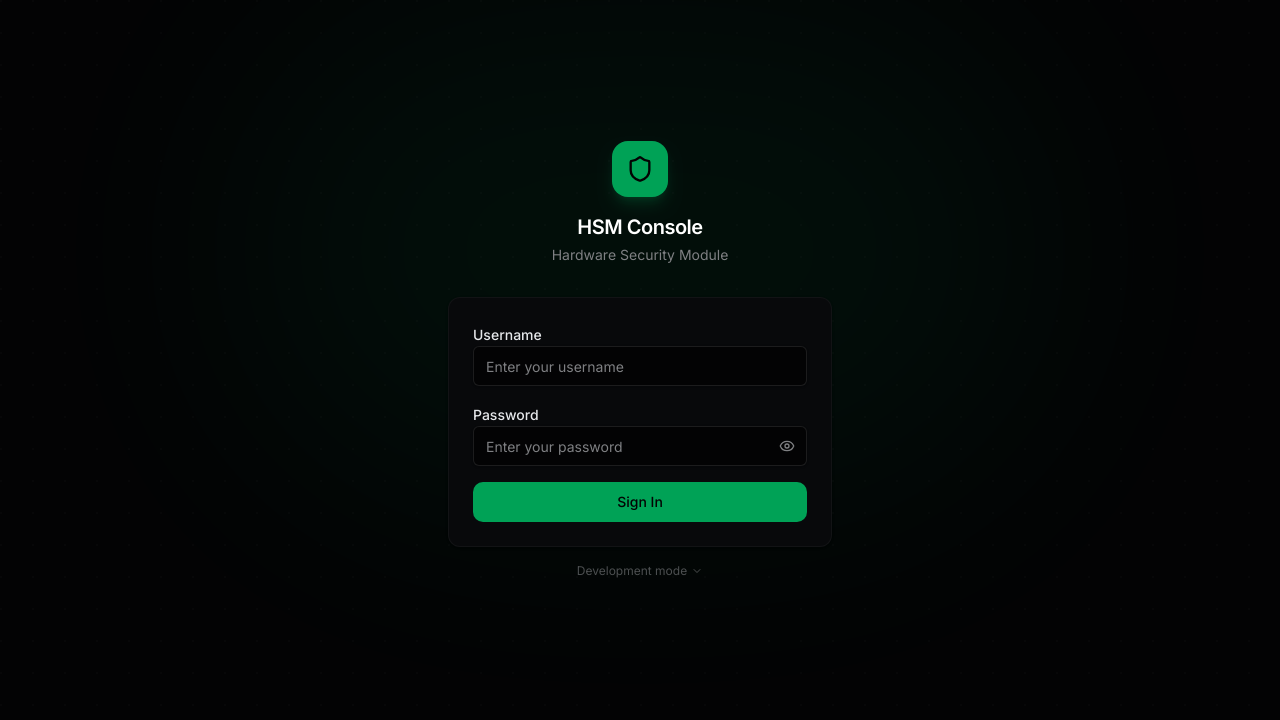
Test: Login Page › Form Validation › shows error when password is missing
Type "admin" into the field with id "username".
click(640, 366); type("admin")  # box left=473, top=346, right=807, bottom=386
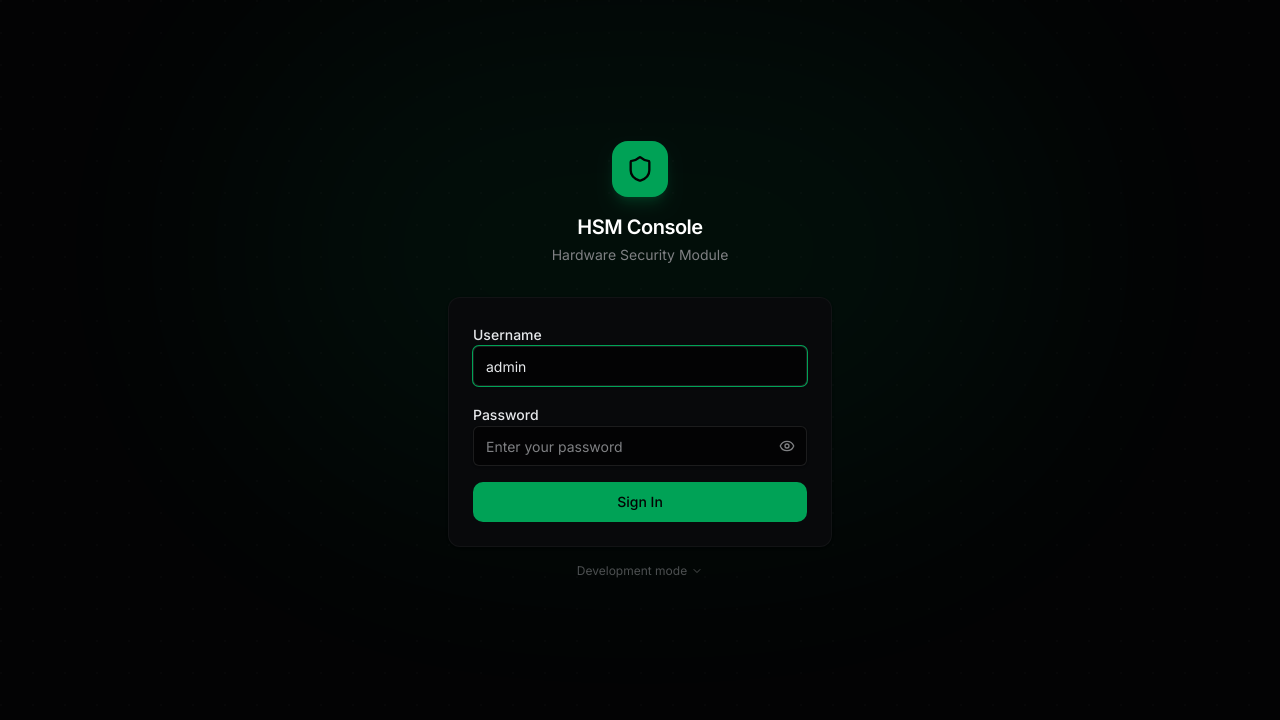
Click the submit button.
click(640, 502)  # box left=473, top=482, right=807, bottom=522
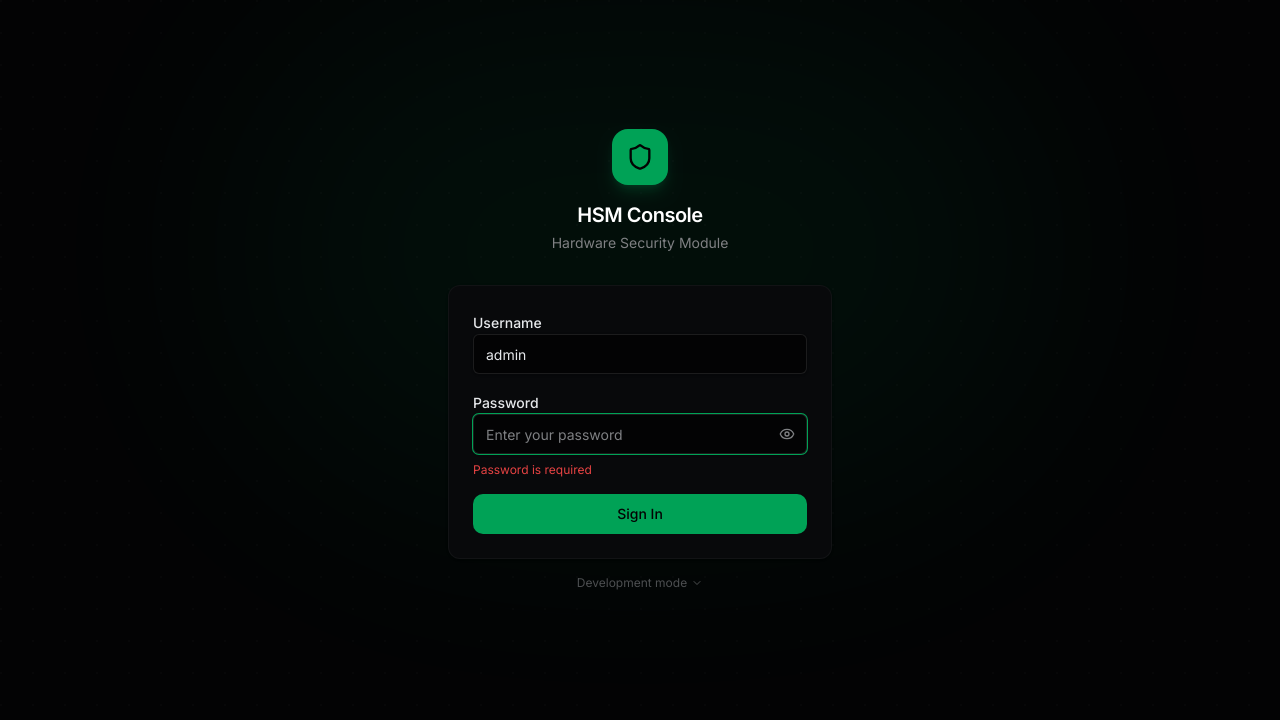
Expected: the text "Password is required" is shown, left=473, top=462, right=592, bottom=477
